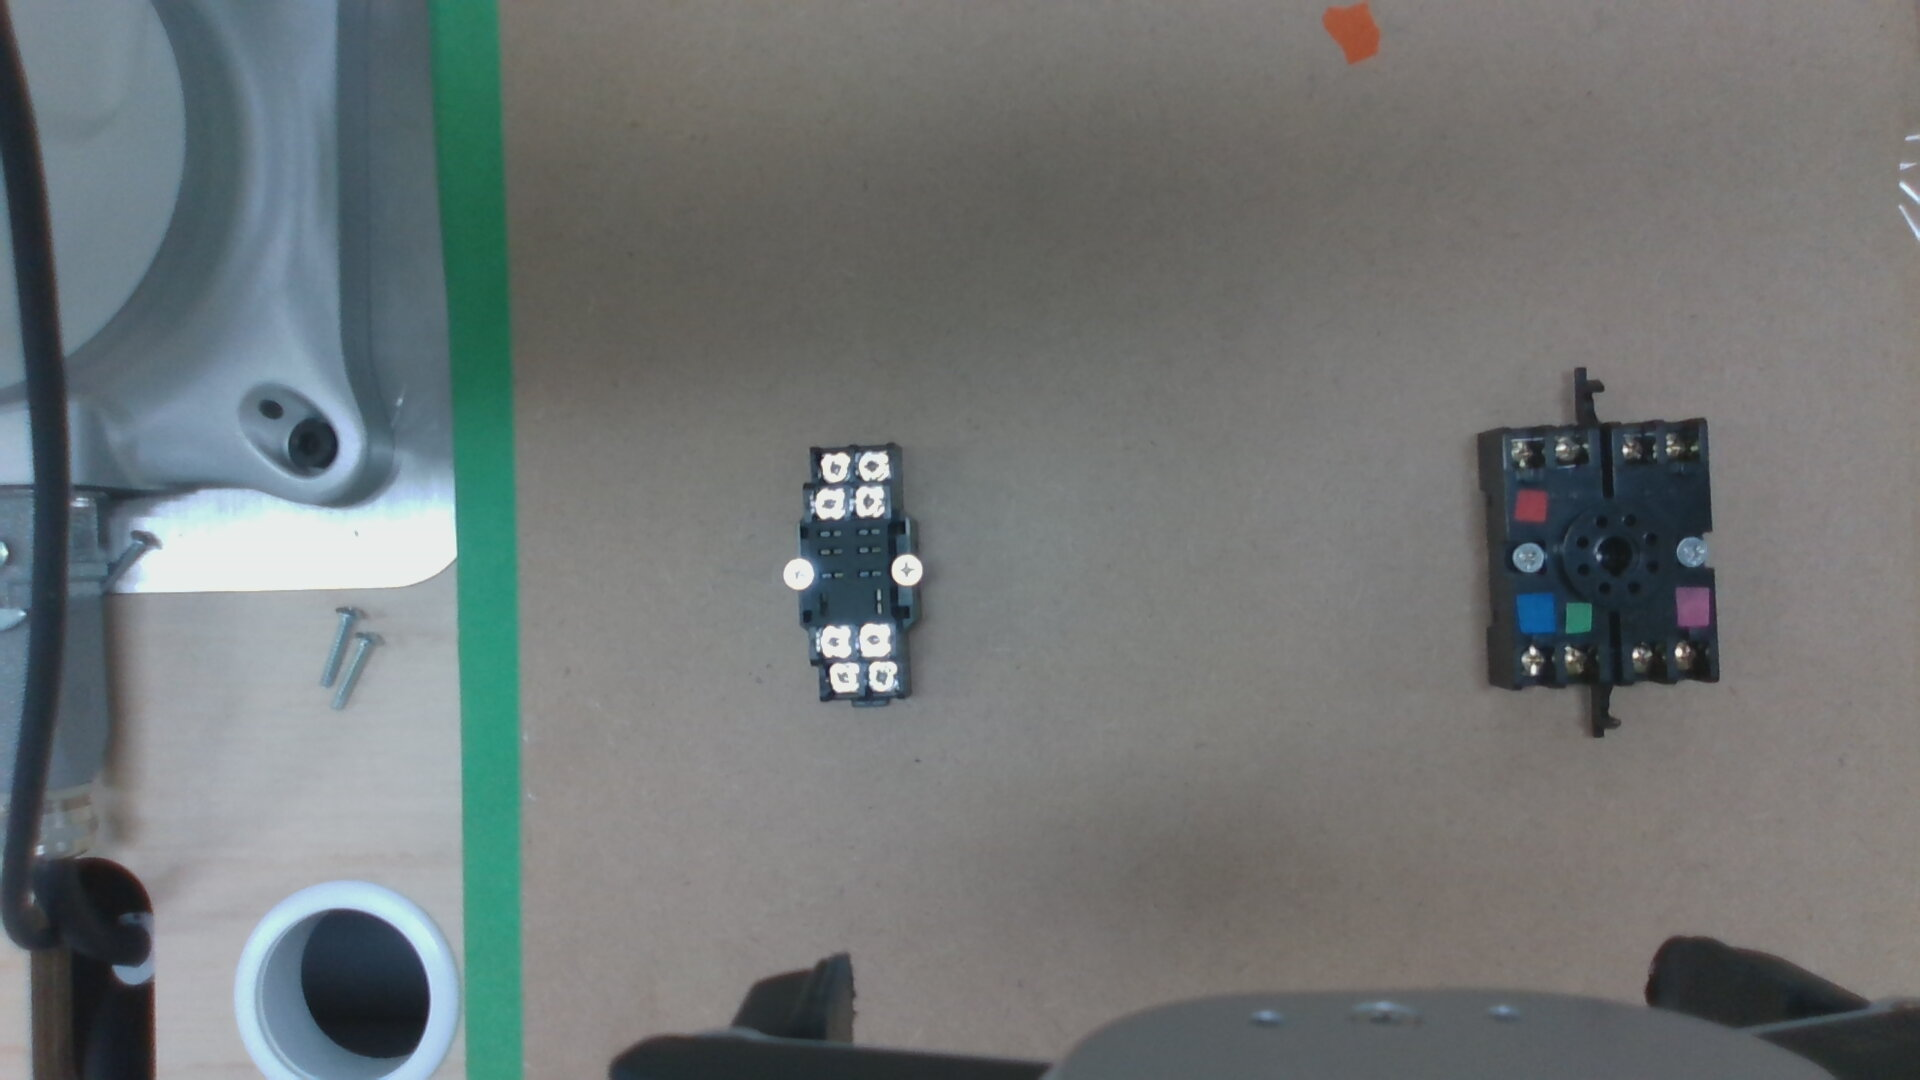relay 3: (856, 452, 887, 477)
relay 4: (818, 454, 848, 480)
relay 5: (866, 662, 895, 686)
relay 6: (828, 666, 856, 690)
relay 7: (858, 625, 887, 655)
relay 8: (819, 625, 849, 654)
